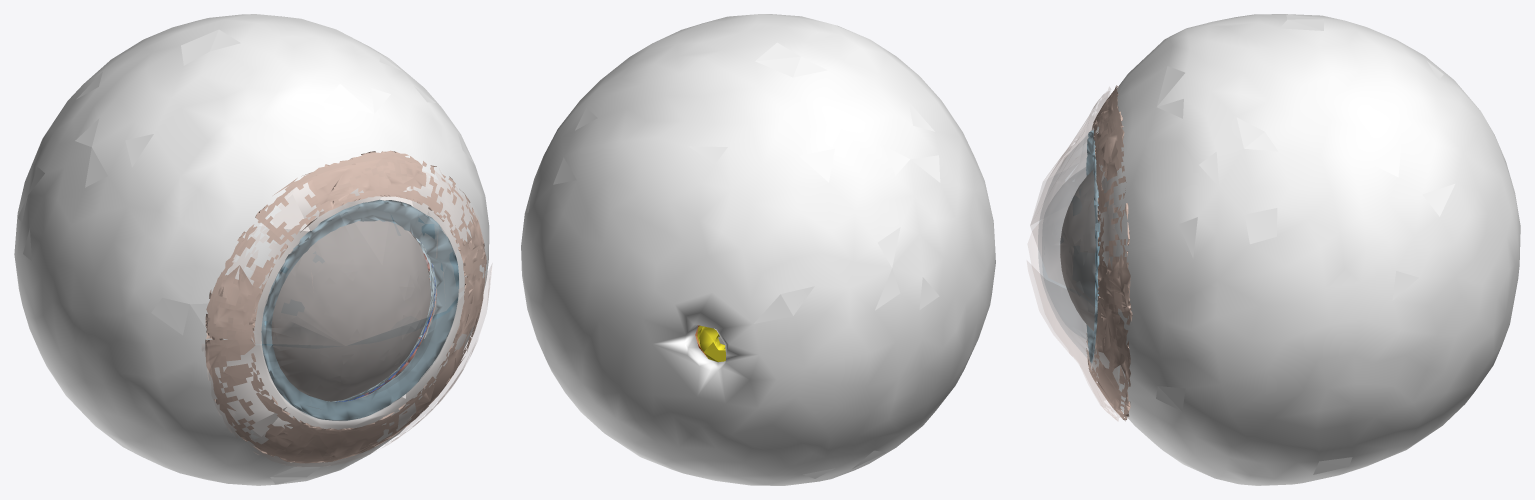
The model's file is 3d-vh-f-eye-l.glb.
3 views of the same model, side by side, from view 1: azimuth 30°, elevation 25°; view 2: azimuth 150°, elevation 25°; view 3: azimuth 270°, elevation 25° (orthographic).
Parts seen in each view (by area): view 1: VH_F_sclera_L, VH_F_cornea_L, VH_F_palpebral_conjunctiva_of_left_upper_eyelid, VH_F_palpebral_conjunctiva_of_left_lower_eyelid, VH_F_bulbar_conjunctiva_L, VH_F_aqueous_humor_L, VH_F_corneo_scleral_junction_L, VH_F_trabecular_meshwork_L; view 2: VH_F_sclera_L, VH_F_optic_disc_L; view 3: VH_F_sclera_L, VH_F_palpebral_conjunctiva_of_left_upper_eyelid, VH_F_cornea_L, VH_F_bulbar_conjunctiva_L, VH_F_palpebral_conjunctiva_of_left_lower_eyelid, VH_F_aqueous_humor_L, VH_F_corneo_scleral_junction_L.
Boxes of the visible parts, <box> form: VH_F_sclera_L: <box>14,14,489,485</box>; VH_F_cornea_L: <box>262,202,459,420</box>; VH_F_palpebral_conjunctiva_of_left_upper_eyelid: <box>210,155,486,345</box>; VH_F_palpebral_conjunctiva_of_left_lower_eyelid: <box>202,265,491,466</box>; VH_F_bulbar_conjunctiva_L: <box>205,150,486,463</box>; VH_F_aqueous_humor_L: <box>271,220,430,401</box>; VH_F_corneo_scleral_junction_L: <box>261,199,458,420</box>; VH_F_trabecular_meshwork_L: <box>329,238,436,401</box>; VH_F_sclera_L: <box>521,14,995,485</box>; VH_F_optic_disc_L: <box>699,326,726,362</box>; VH_F_sclera_L: <box>1090,14,1520,485</box>; VH_F_palpebral_conjunctiva_of_left_upper_eyelid: <box>1030,87,1123,311</box>; VH_F_cornea_L: <box>1038,132,1098,362</box>; VH_F_bulbar_conjunctiva_L: <box>1086,85,1132,421</box>; VH_F_palpebral_conjunctiva_of_left_lower_eyelid: <box>1027,226,1120,420</box>; VH_F_aqueous_humor_L: <box>1060,169,1095,331</box>; VH_F_corneo_scleral_junction_L: <box>1086,130,1100,362</box>.
Bounding box in the file's own units: 0.0245 × 0.0244 × 0.0257.
